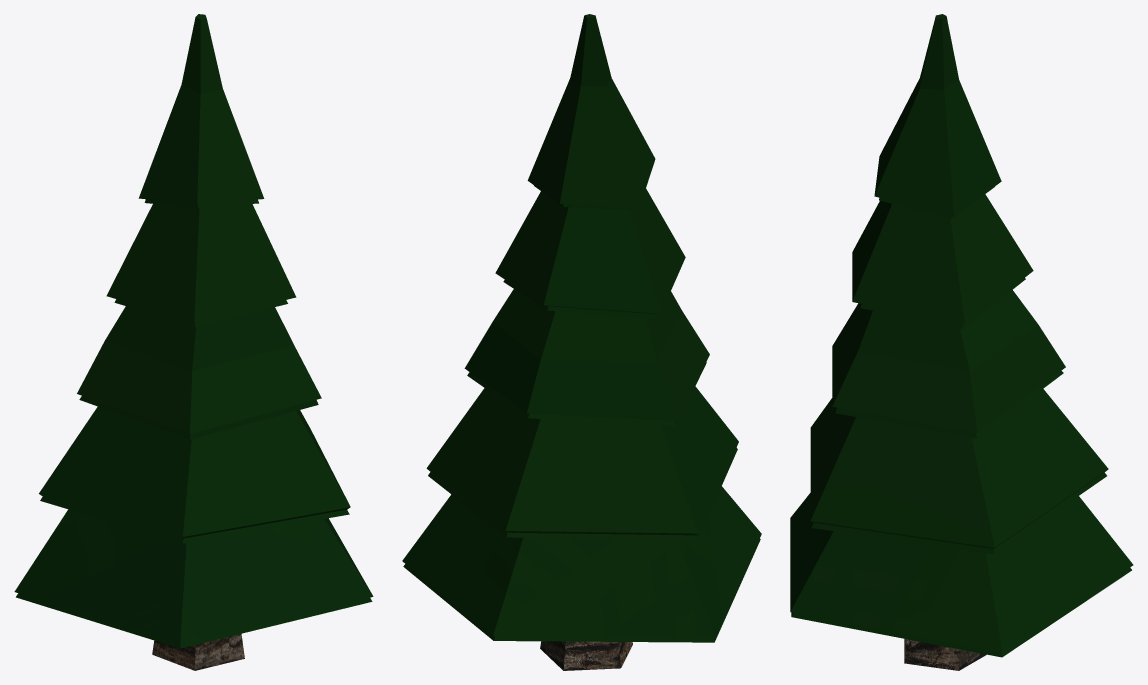
The model's file is treeModelLowPoly.obj.
3 views of the same model, side by side, from view 1: azimuth 30°, elevation 25°; view 2: azimuth 150°, elevation 25°; view 3: azimuth 270°, elevation 25° (orthographic).
Visible parts, largest first — view 1: Cylinder; view 2: Cylinder; view 3: Cylinder.
Boxes of the visible parts, <box> form: Cylinder: <box>14,14,373,670</box>; Cylinder: <box>402,14,761,670</box>; Cylinder: <box>790,14,1133,670</box>.
Size of the model in its own units: 5.38 by 10.44 by 5.11.
2 materials, 2 textured.
